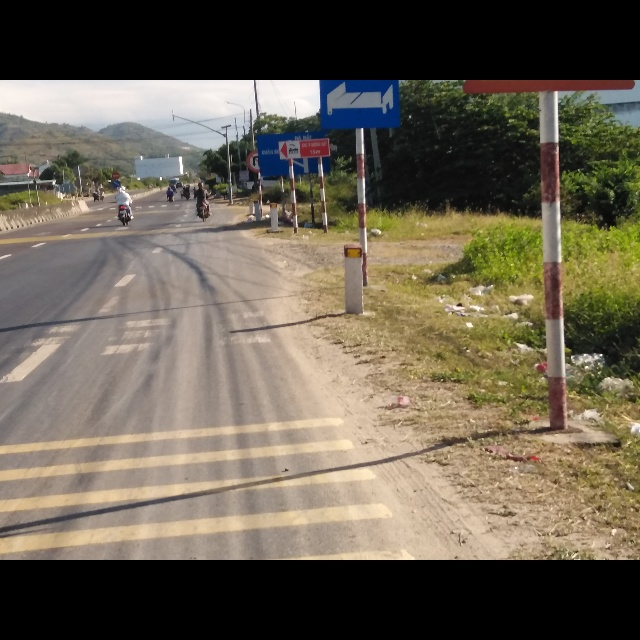Bệnh viện: (320, 81, 402, 127)
